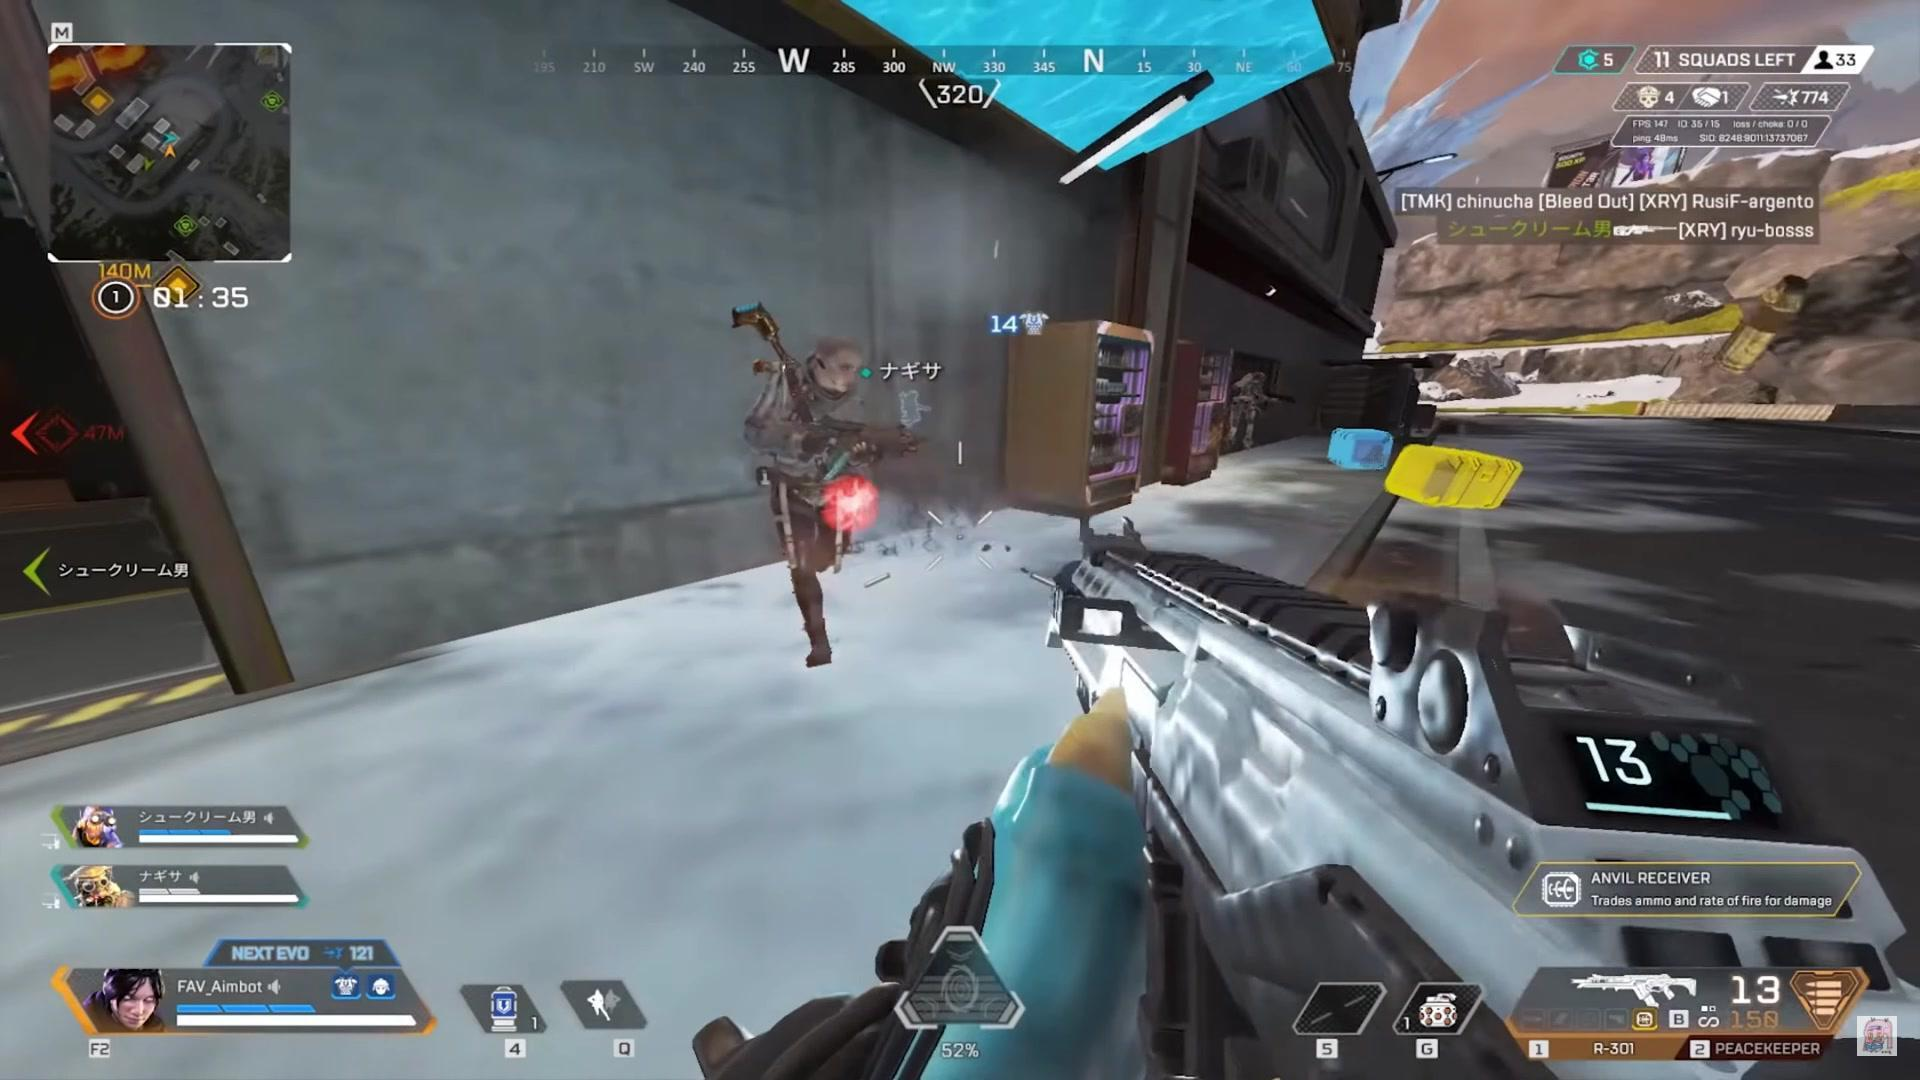avatar: (744, 340, 872, 668)
object: (824, 472, 881, 534)
